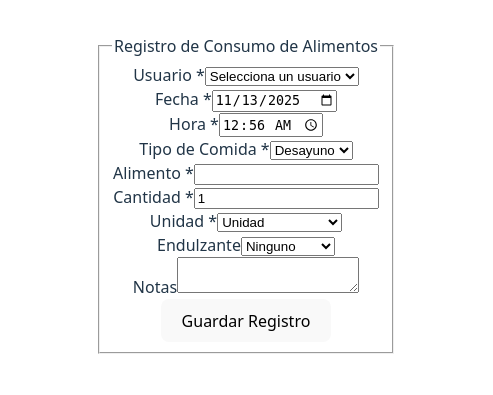
Test: RegistrationForm - Integración › muestra errores, luego corrige y permite enviar
Select "Selecciona un usuario" in the dropdown labelled "Usuario *" at {"x": 282, "y": 77}, box x1=205 y1=67 x2=359 y2=86
Click the button "Guardar Registro" at {"x": 246, "y": 321}, box x1=161 y1=299 x2=330 y2=342
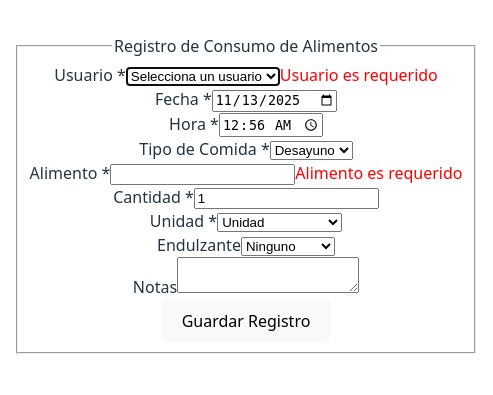
Expected: the text "Usuario es requerido" is shown, x1=280 y1=64 x2=438 y2=86
Expected: the text "Alimento es requerido" is shown, x1=295 y1=162 x2=462 y2=184
Select "Juan" in the dropdown labelled "Usuario *" at {"x": 203, "y": 77}, box x1=126 y1=67 x2=280 y2=86
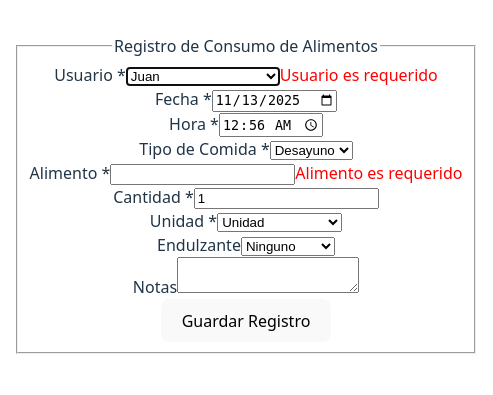
Type "Manzana" into the field labelled "Alimento *" at {"x": 203, "y": 174}, box x1=110 y1=164 x2=295 y2=185
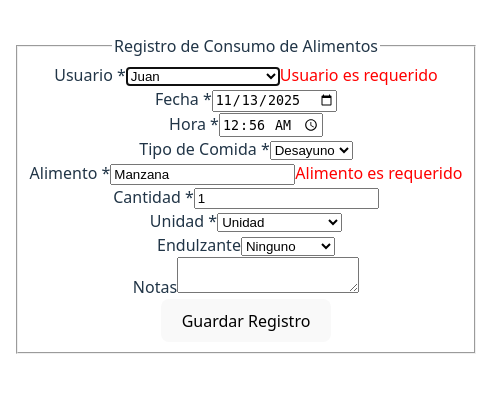
Click the button "Guardar Registro" at {"x": 246, "y": 321}, box x1=161 y1=299 x2=330 y2=342
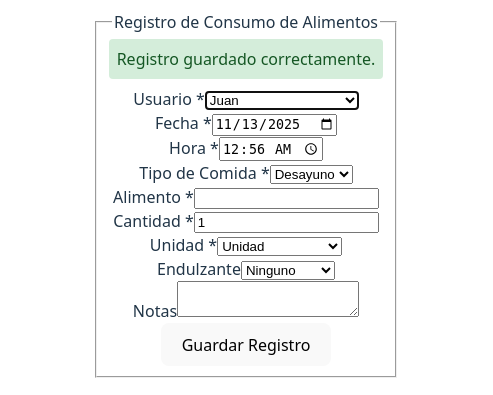
Expected: the message shows "guardado", x1=117 y1=48 x2=375 y2=70
